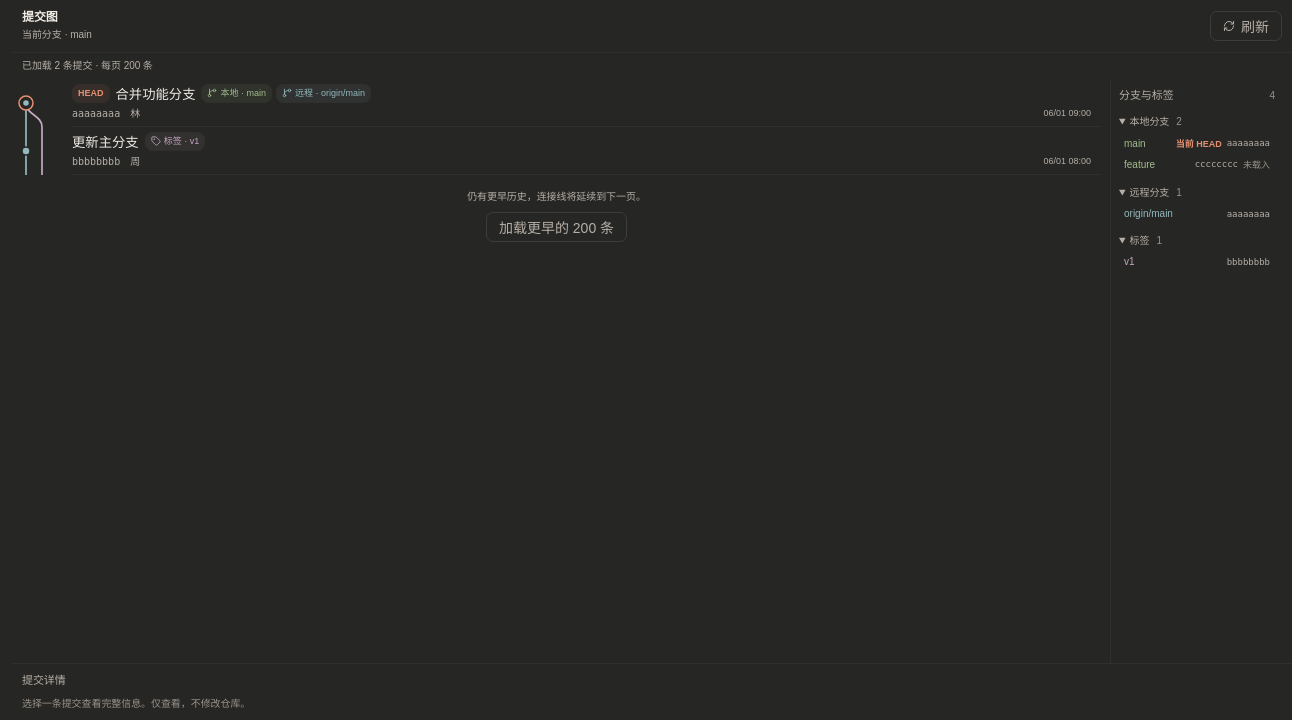
it: GitCommitTree › retries failed pagination and marks matching snapshot roots stale without reloading or accepting an in-flight old page
Click the button "加载更早的 200 条". click: coordinates (556, 227)
box: [486,212,627,242]
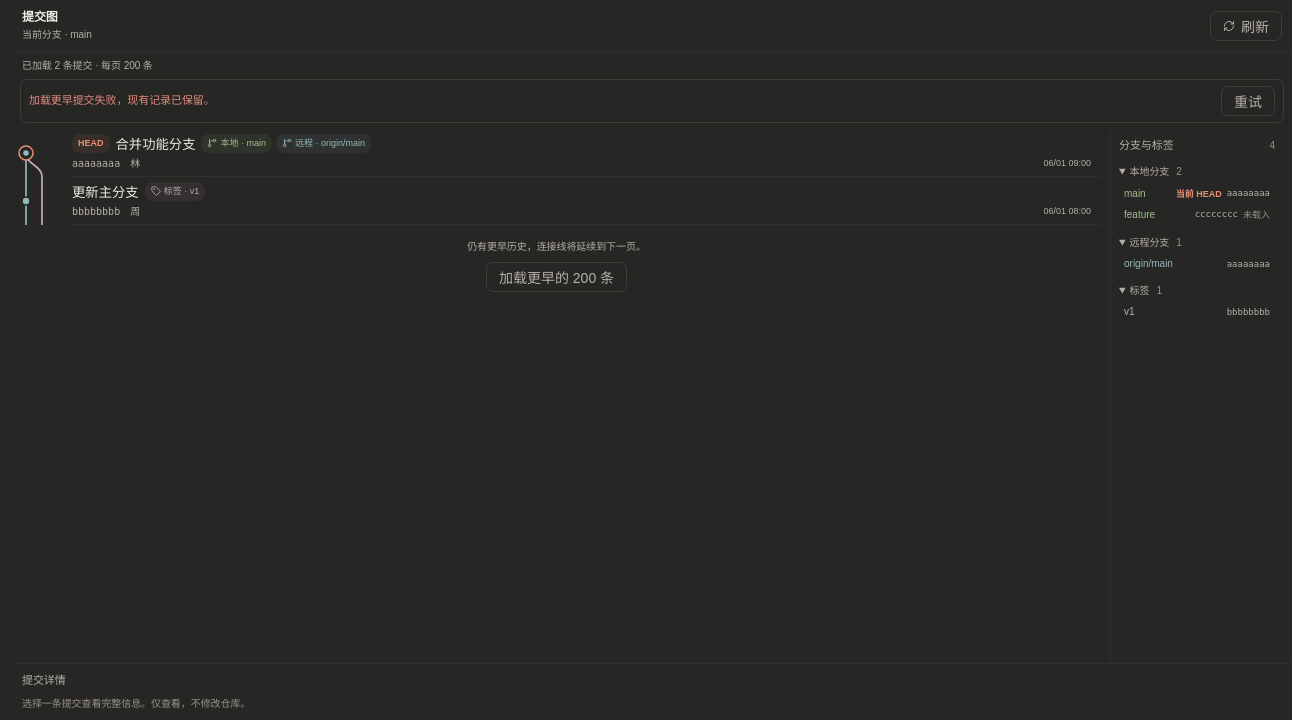
Expected: the button "加载更早的 200 条" is enabled, [486,262,627,292]
Now the message "加载更早提交失败，现有记录已保留。 重试" is shown, box [20,79,1284,123]
Click the button "重试". click: coordinates (1248, 101)
box: [1221,86,1275,116]
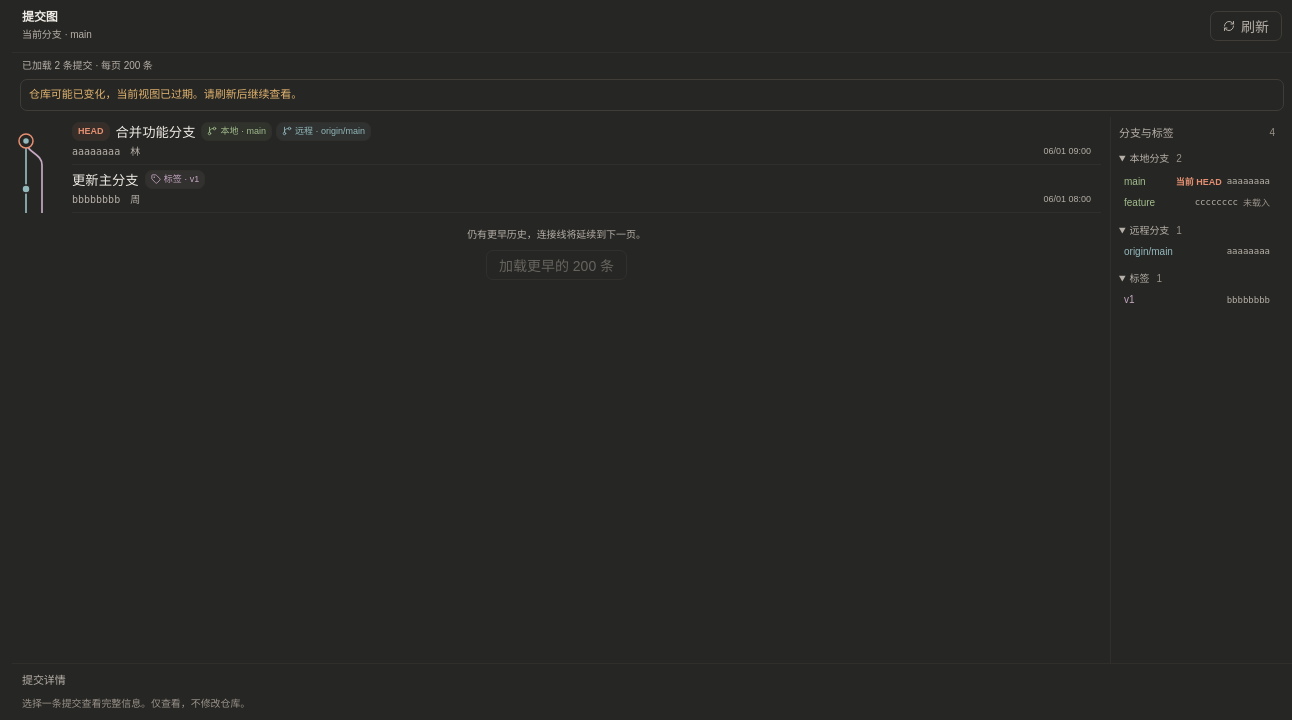
Expected: the text "仍有更早历史，连接线将延续到下一页。" is shown, [467,227,646,243]
Now the text "仓库可能已变化，当前视图已过期。请刷新后继续查看。" is shown, box [20,79,1284,111]
Now the button "加载更早的 200 条" is disabled, box [486,250,627,280]
Click the button "刷新". click: coordinates (1246, 26)
box: [1210,11,1282,41]
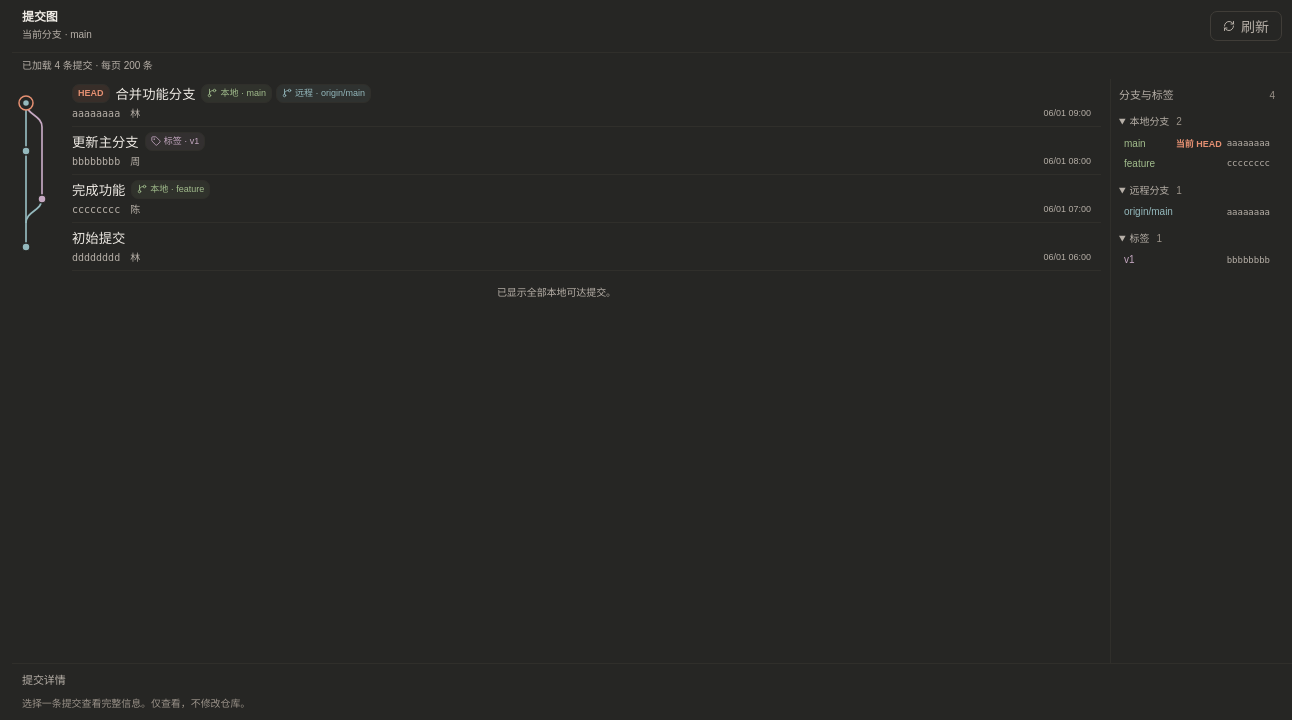
Now the text "当前视图已过期" is gone
Now the button with aria-label "查看提交 cccccccc" is shown, box [12,175,1101,223]
